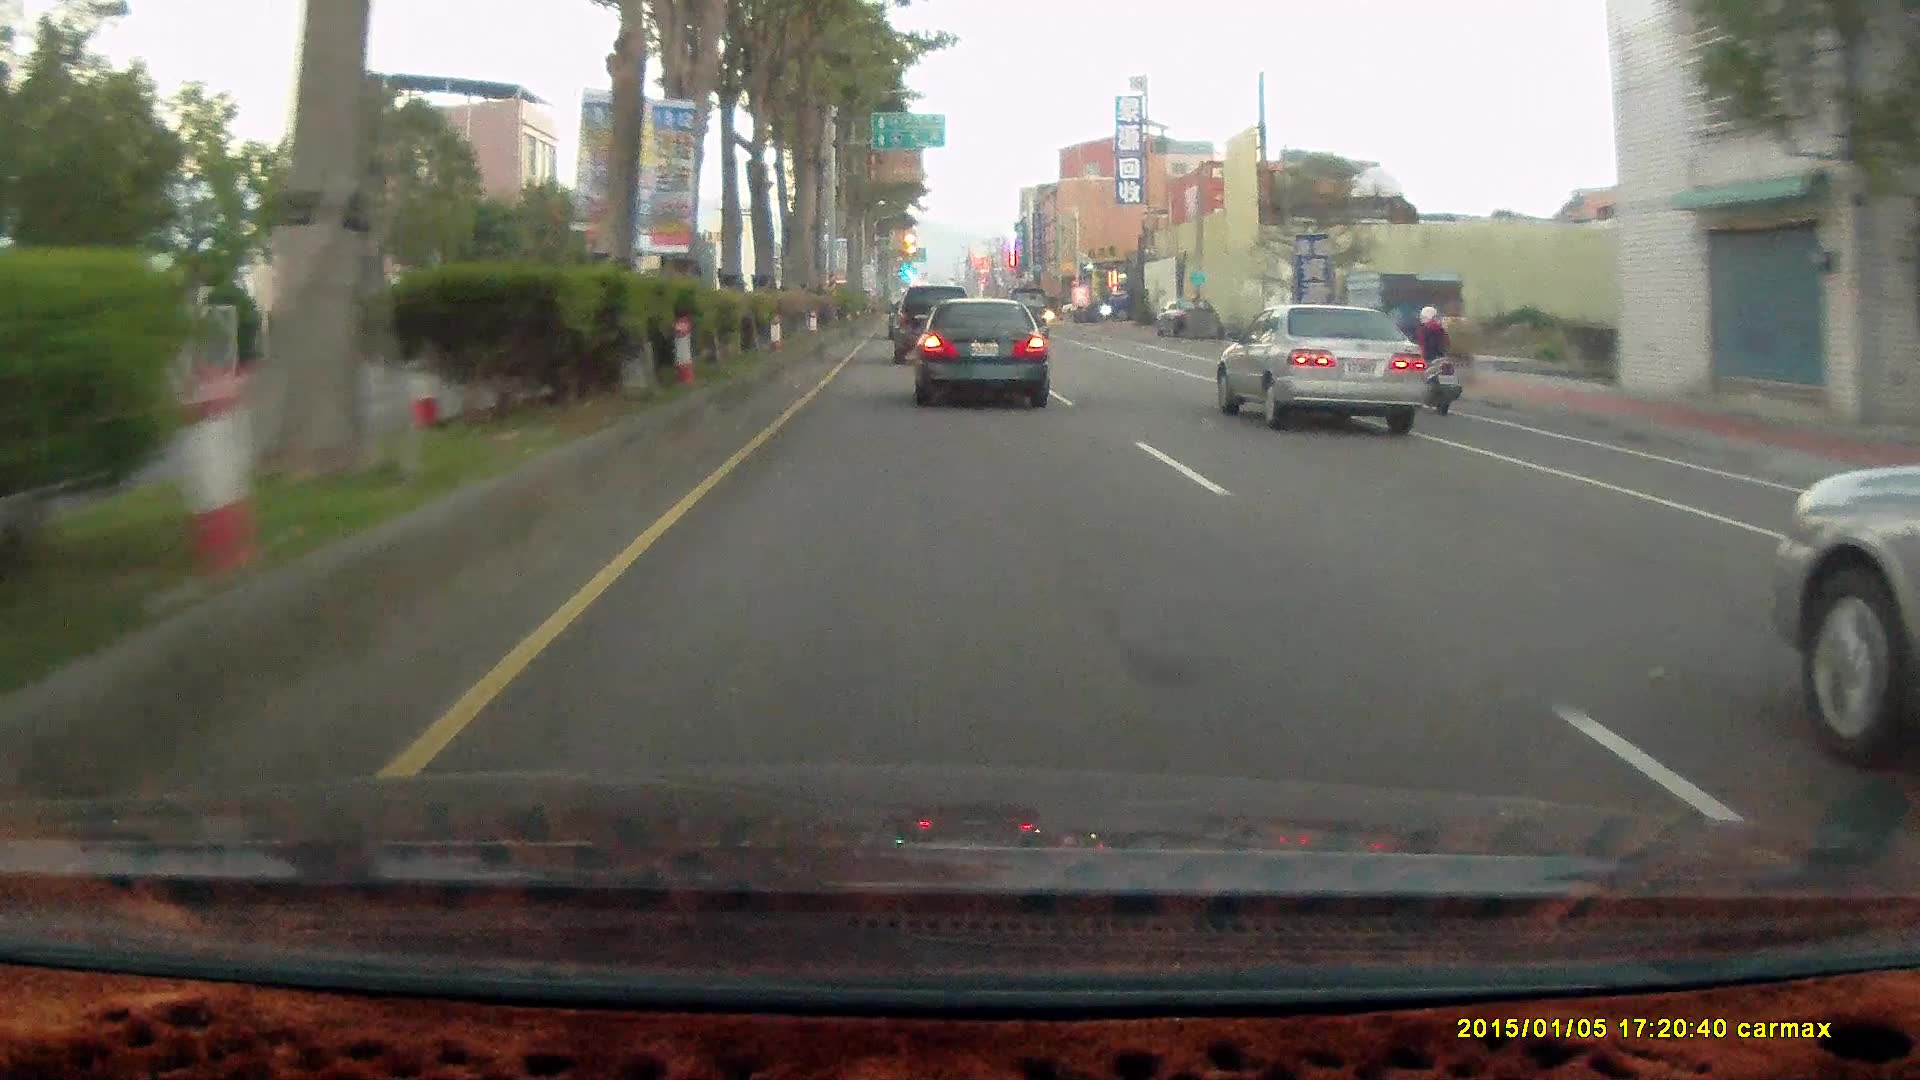rider: (1392, 295, 1469, 421), (1394, 301, 1458, 415)
vehicle: (1769, 441, 1920, 763), (1215, 301, 1428, 434), (1217, 302, 1431, 435), (909, 294, 1048, 405), (911, 297, 1050, 402), (1334, 272, 1463, 369), (889, 283, 973, 362), (1151, 295, 1222, 341), (1005, 284, 1050, 335), (1095, 283, 1157, 319)
